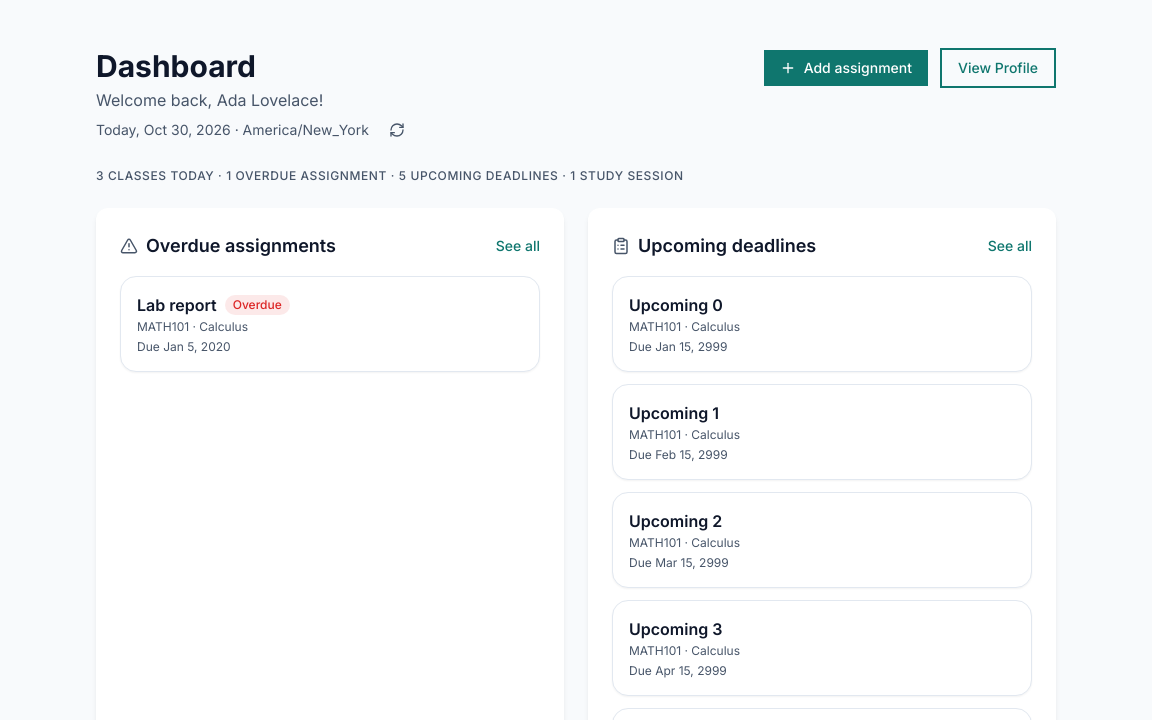
Test: DashboardPage (EP05C) › mounts the shared owner exactly once and opens the same single dialog from a row
Click the button "Lab report".
click(177, 305)  # box left=137, top=293, right=217, bottom=317
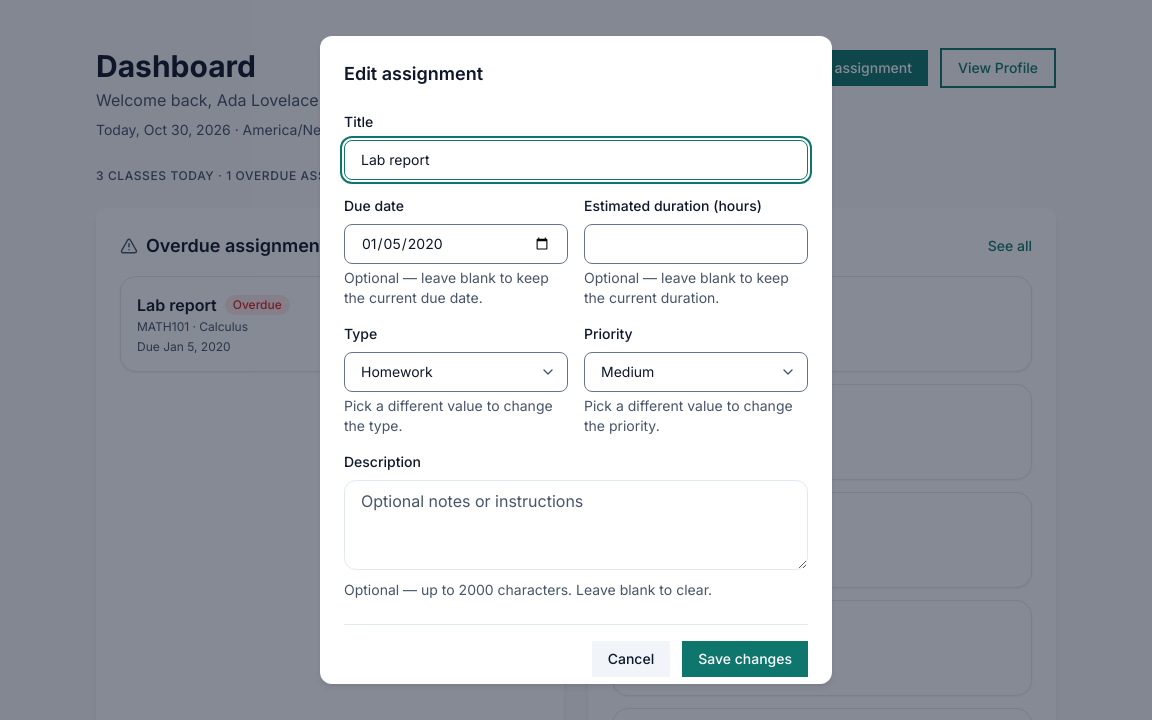
Expected: the number of dialogs is 1, left=320, top=36, right=832, bottom=684
